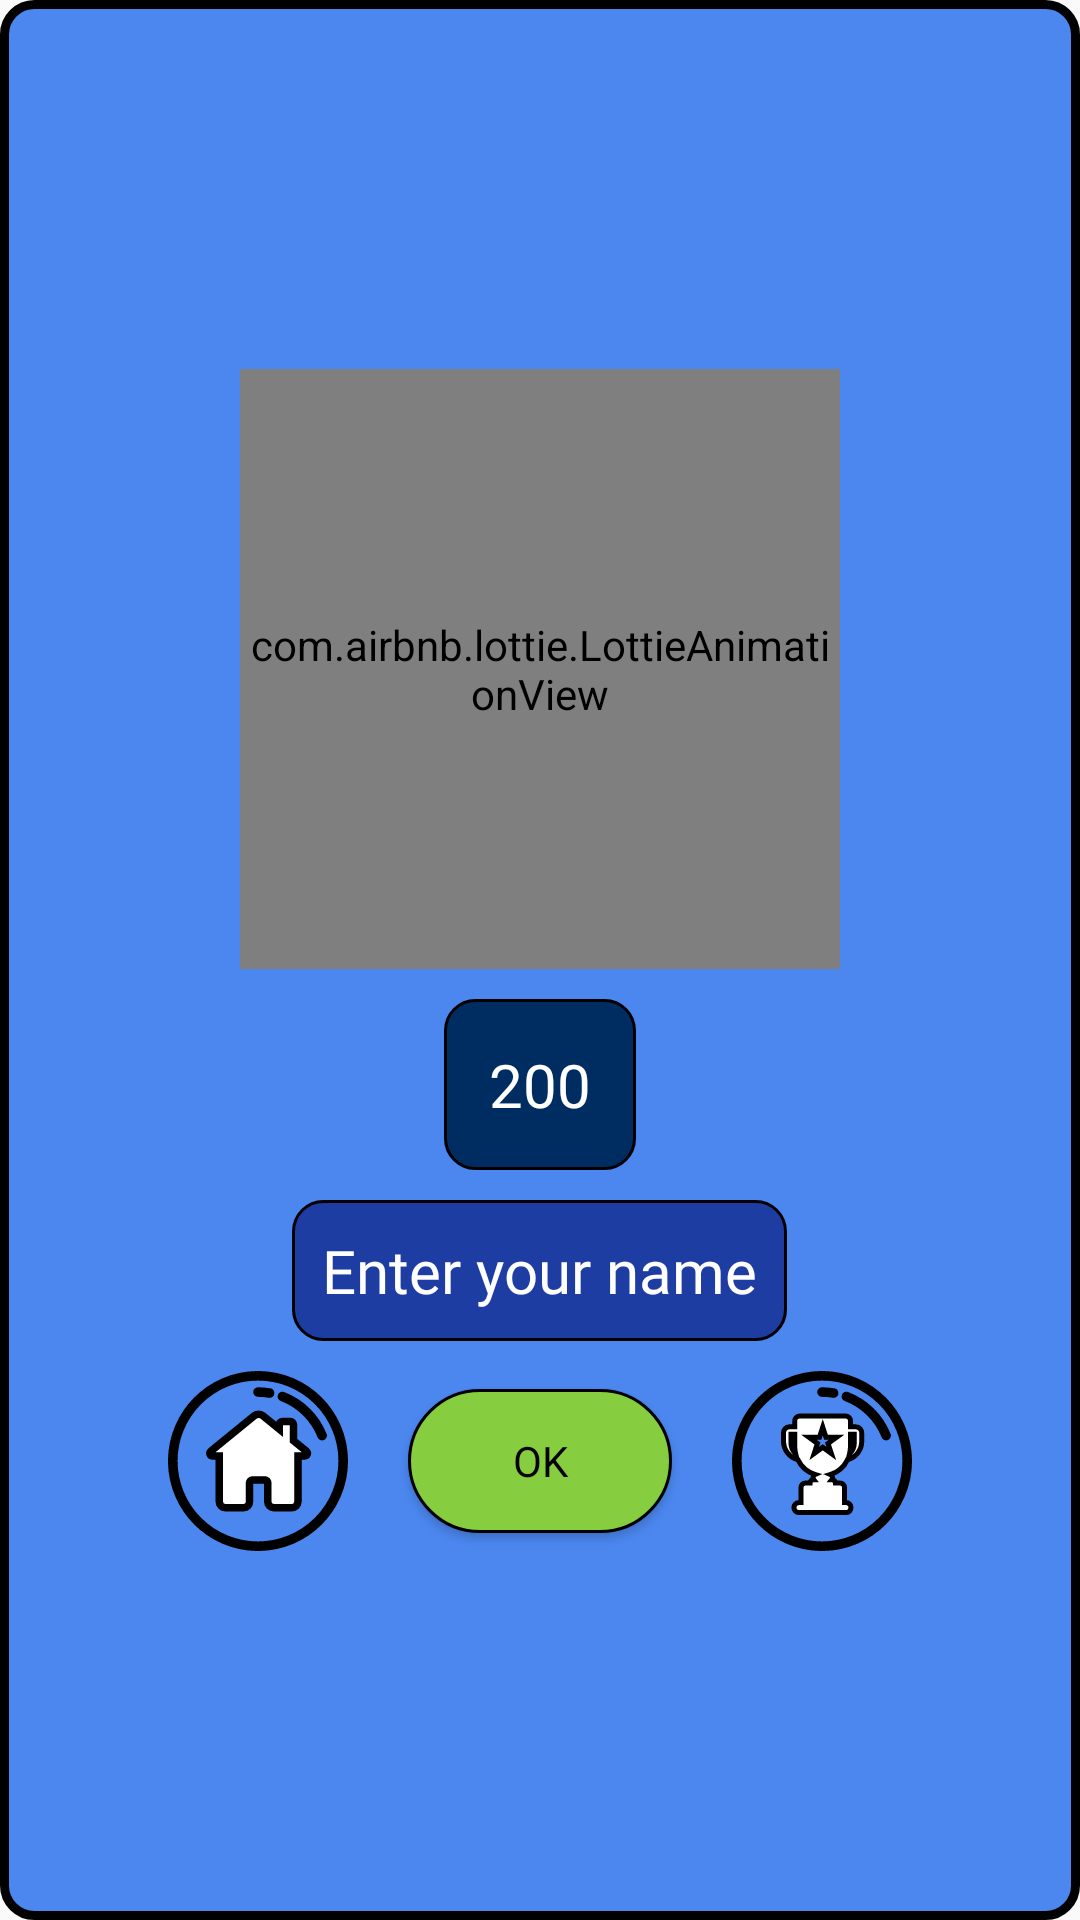

Screen size 1080*1920. Icon name, then its box in pixels as box(x1, y1, x2, y2):
home: box(168, 1371, 348, 1551)
score: box(732, 1371, 912, 1551)
